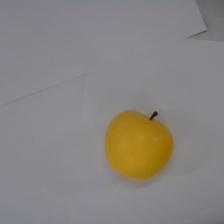yellow: (105, 110, 174, 181)
